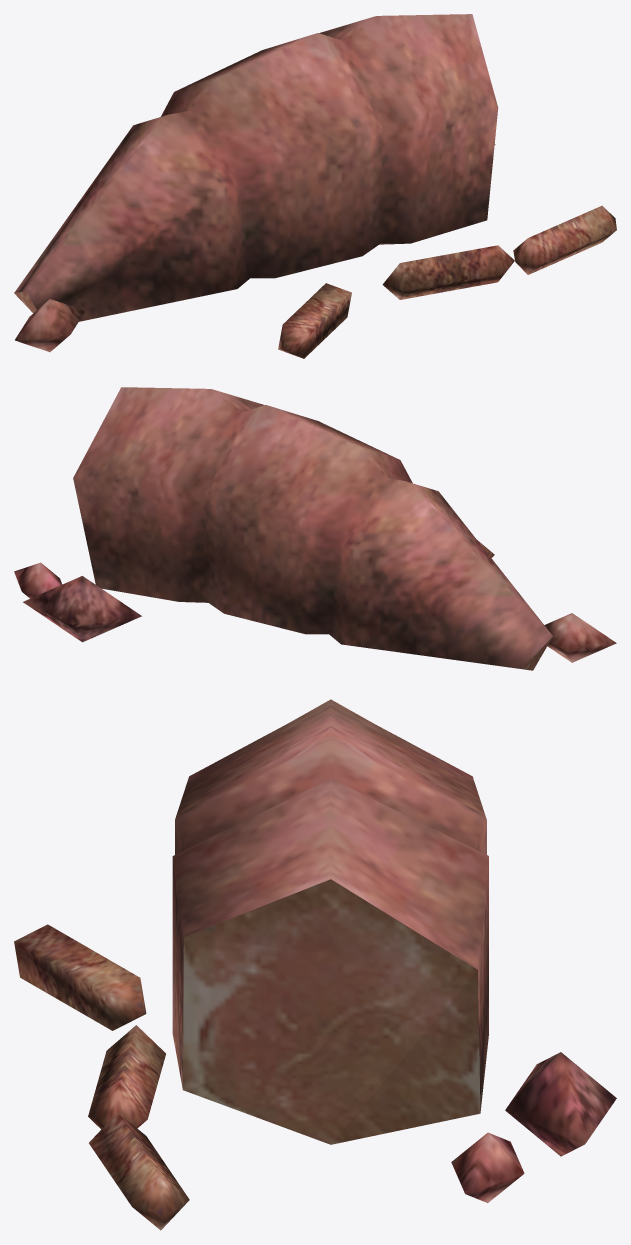
File: eqp_comp_meat_item.fbx
The picture shows the model from 3 angles, top to bottom: view 1: azimuth 30°, elevation 25°; view 2: azimuth 150°, elevation 25°; view 3: azimuth 270°, elevation 25°; orthographic projection. The views are drawn at different scales.
Parts seen in each view (by area): view 1: mesh_node; view 2: mesh_node; view 3: mesh_node.
Part boxes in pixels (x1=…): mesh_node: x1=14, y1=14, x2=616, y2=358; mesh_node: x1=14, y1=387, x2=616, y2=670; mesh_node: x1=14, y1=699, x2=616, y2=1230.
Bounding box in the file's own units: 0.3446 × 0.1292 × 0.2104.
